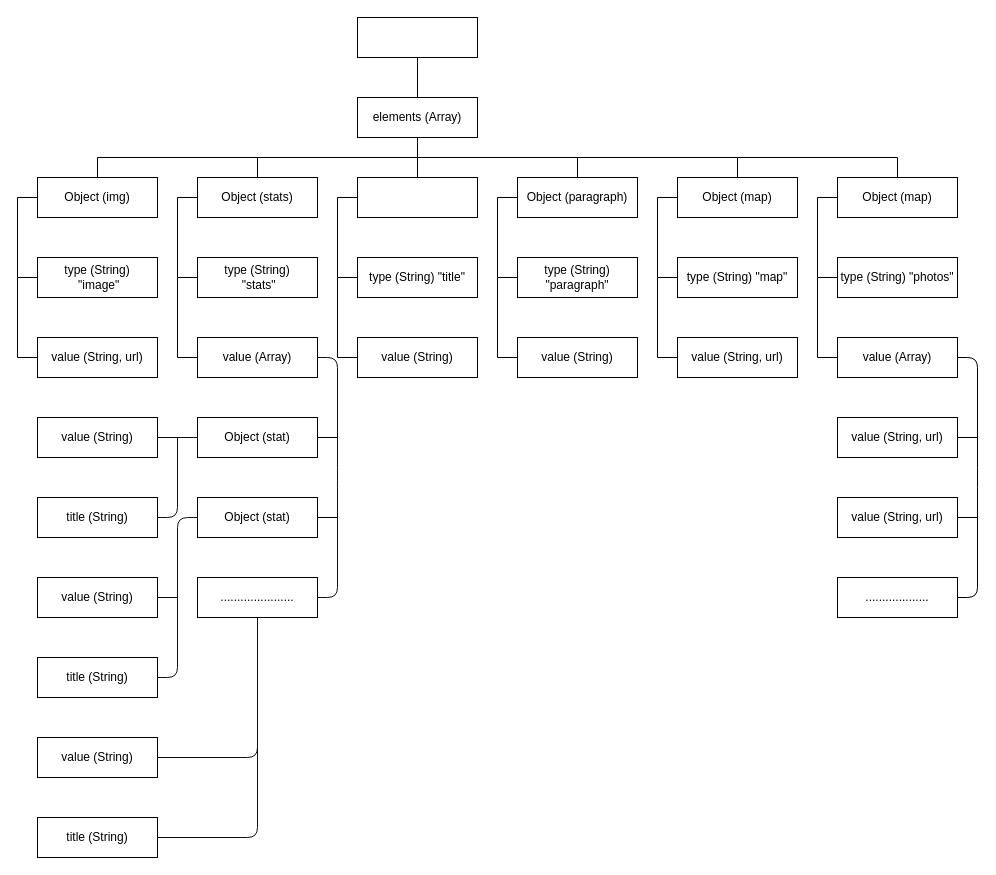
This 996x875 diagram has some shape labels left out. The shapes that lost their labels are listed below. From the top down, each one's centre as x and y in pixels, then its label:
At point (417, 37): "CIty (Object)".
At point (417, 197): "Object (title)".
